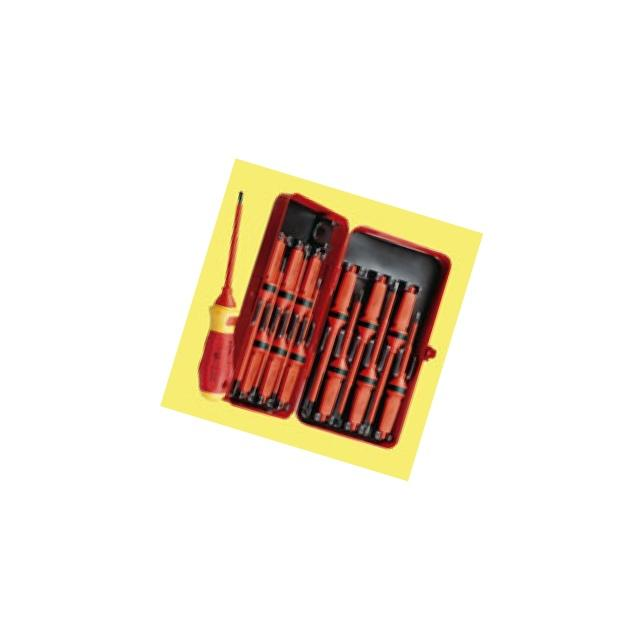screwdriver: (167, 186, 286, 410)
